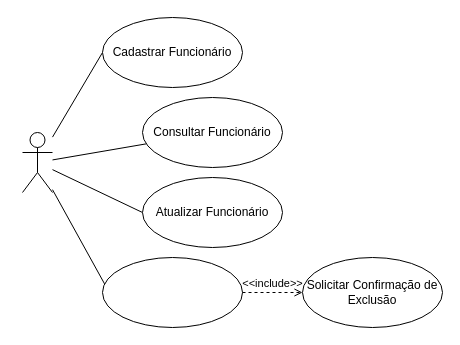
Some shapes in this 460 by 345 pixel diagram are drawn without their labels. Each missing label, with the centre of its shape:
Deletar Funcionário: the point at 172,292
Usuário: the point at 37,162
